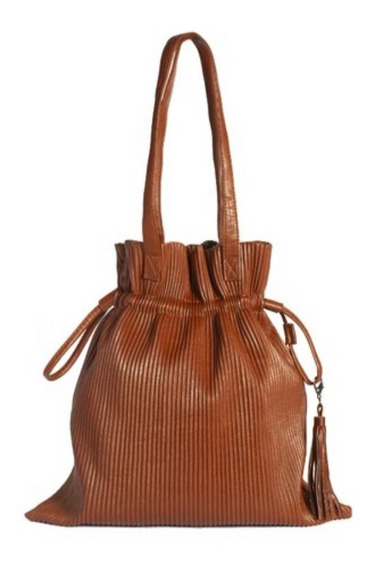cartera: (24, 30, 355, 528)
